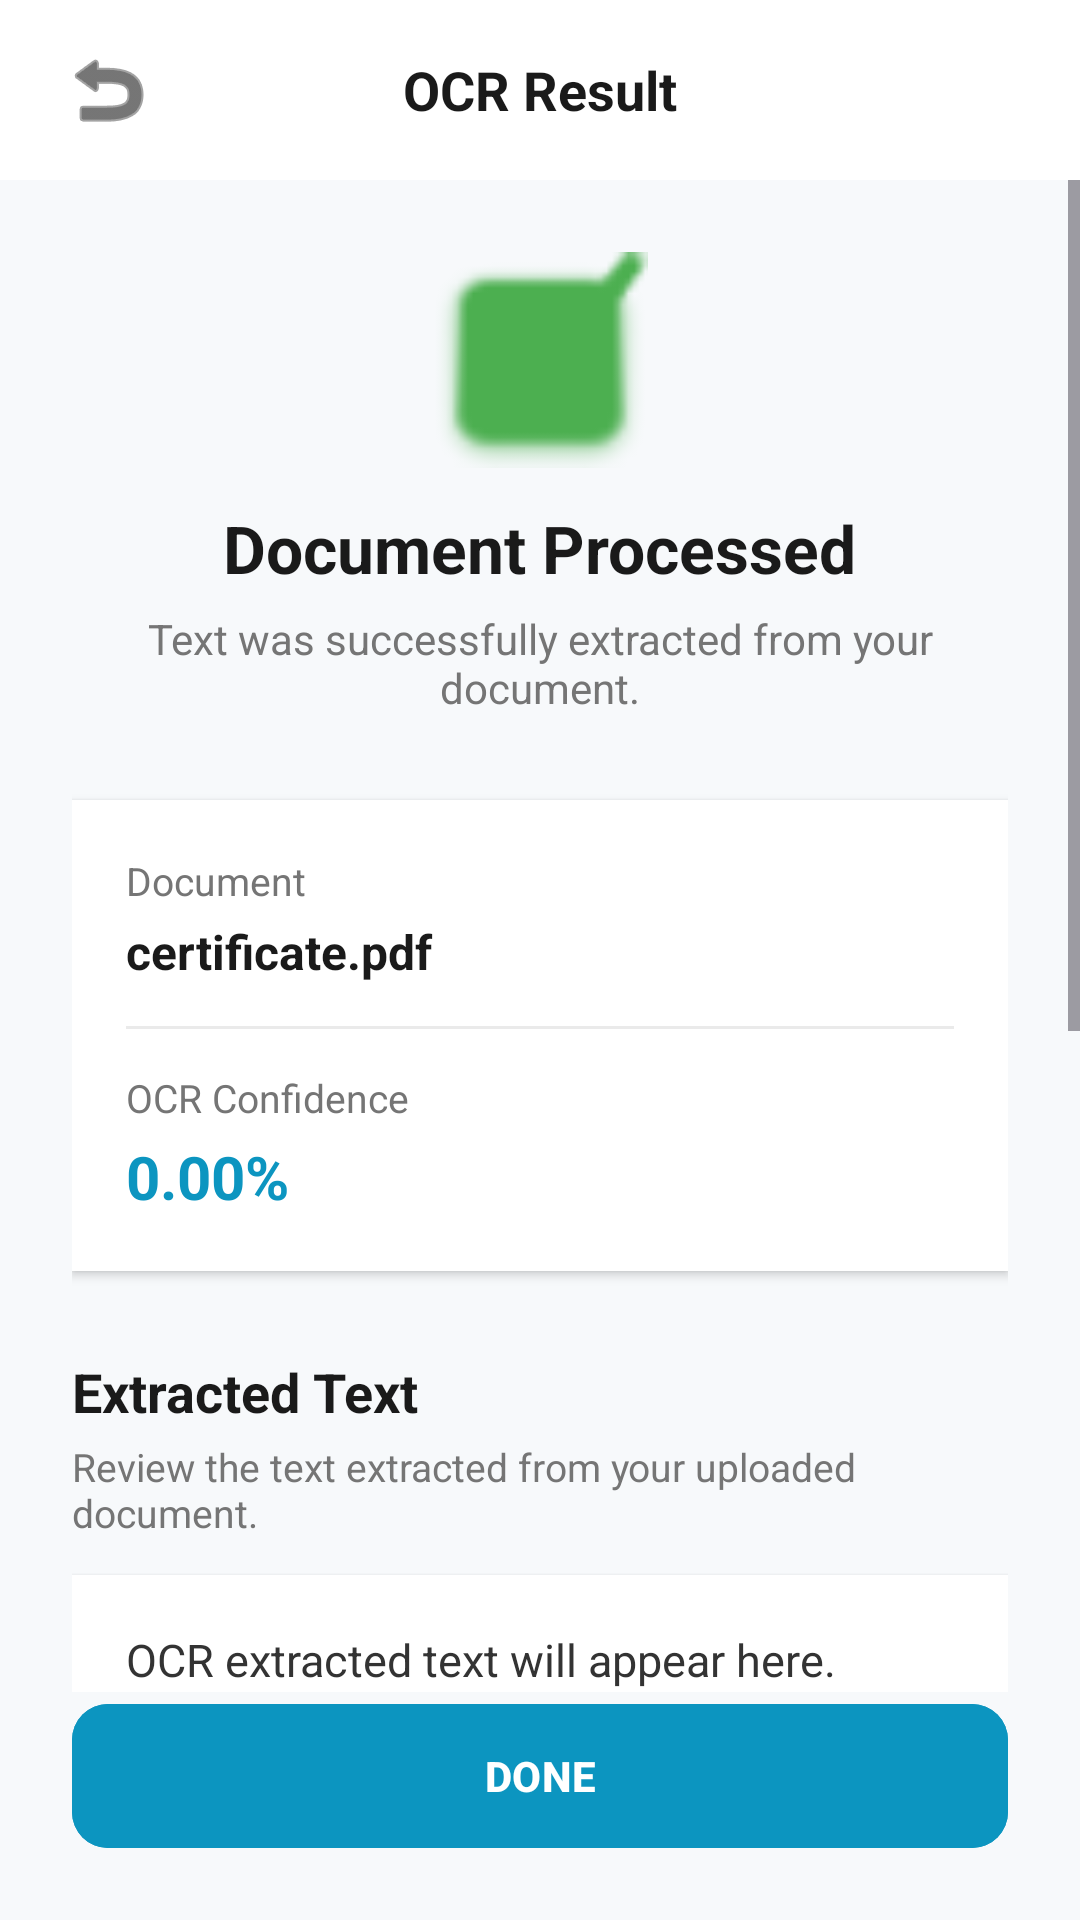

Screen size 1080px x 1920px. Icon name, then its center in pixels as [x,y]:
Back: [109,90]
